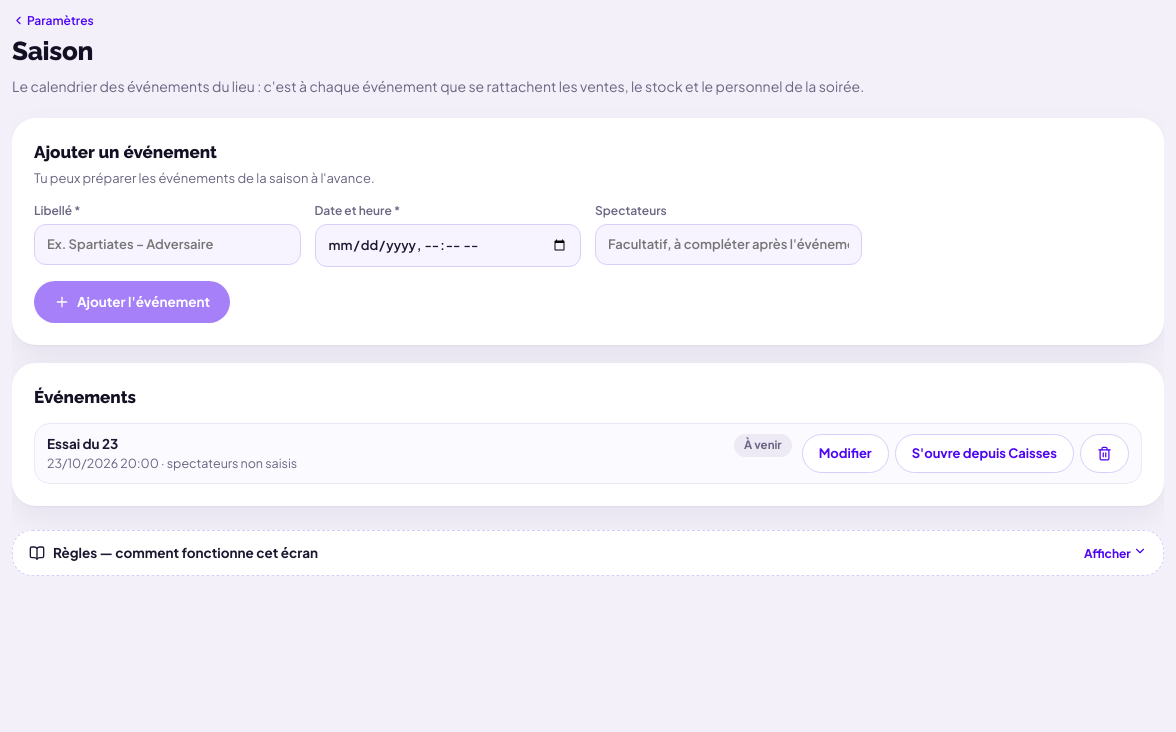
Test case: supprimer un événement › refus du serveur affiché tel quel
Click the button named "Supprimer Essai du 23" at (1104,454), box [1080,434,1129,473]
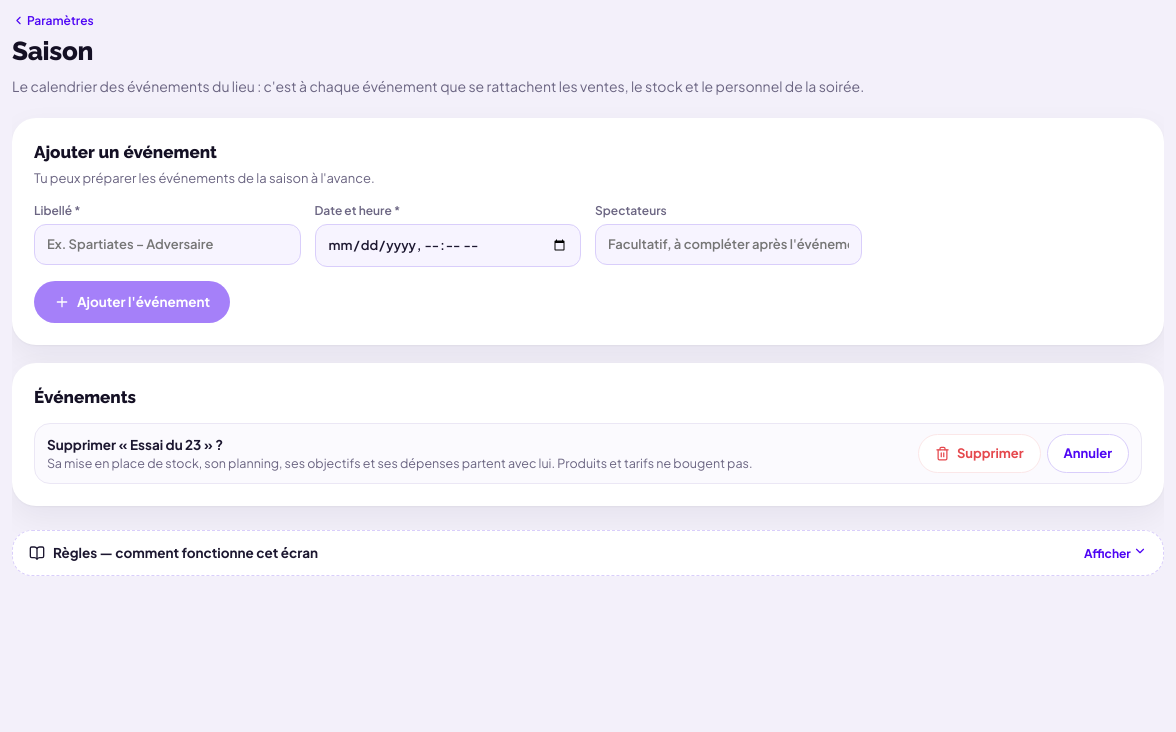
Click the button "Supprimer" at (979,454), box [918,434,1041,473]
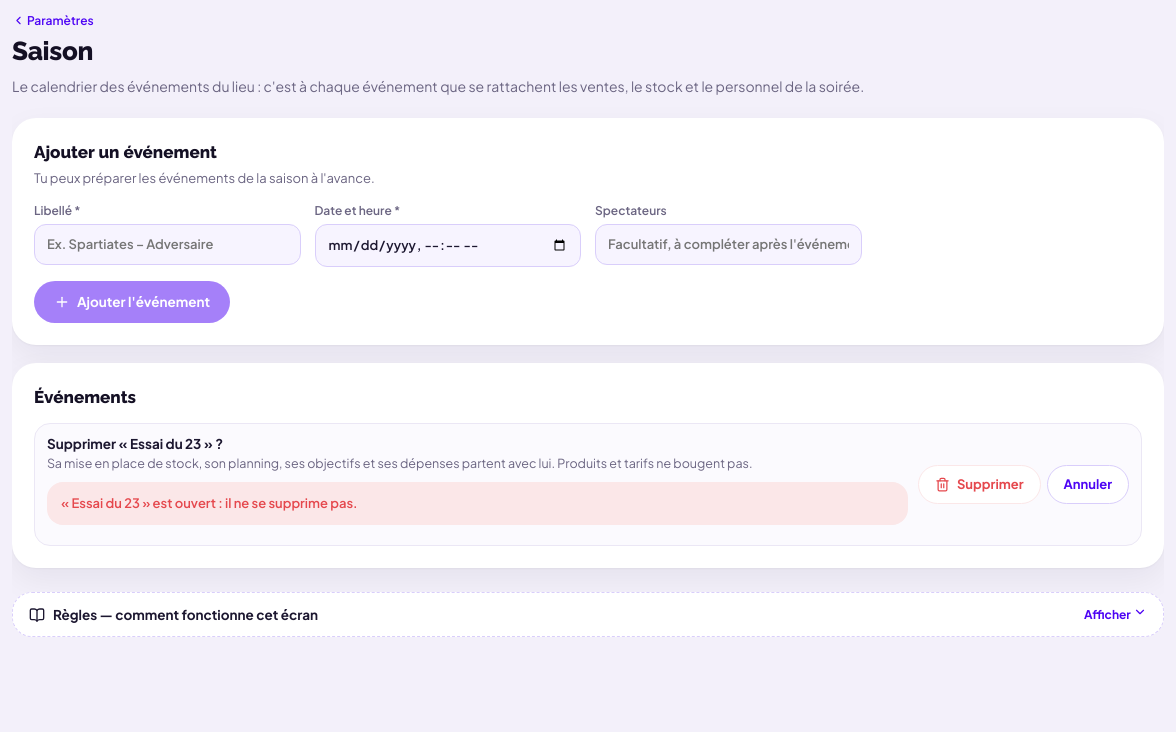
Expected: the text "« Essai du 23 » est ouvert : il ne se supprime pas." is shown, [47,482,908,525]
